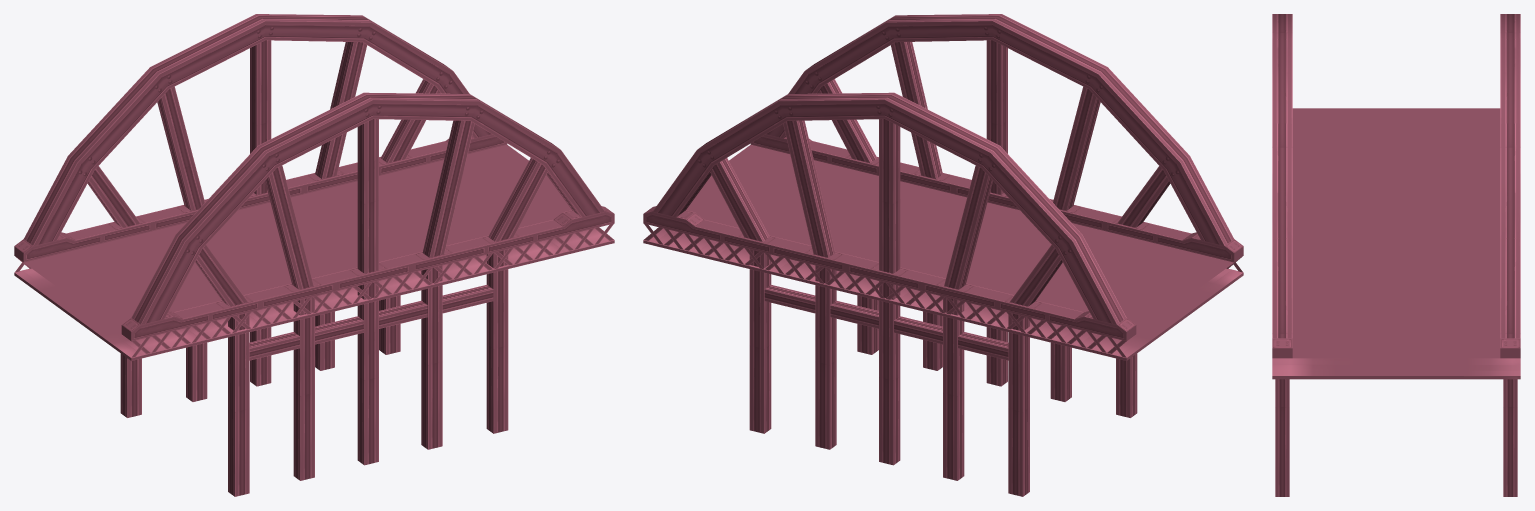
File: jy_qiao01.FBX
The picture shows the model from 3 angles, left to right: view 1: azimuth 30°, elevation 25°; view 2: azimuth 150°, elevation 25°; view 3: azimuth 270°, elevation 25°; orthographic projection. The views are drawn at different scales.
Visible parts, largest first — view 1: jy_qiao01; view 2: jy_qiao01; view 3: jy_qiao01.
Part boxes in pixels (left/top/right/bottom): jy_qiao01: left=14, top=14, right=614, bottom=496; jy_qiao01: left=643, top=14, right=1243, bottom=496; jy_qiao01: left=1272, top=14, right=1520, bottom=496.
Size of the model in its own units: 6765 by 4879 by 2839.
1 material, 1 textured.
